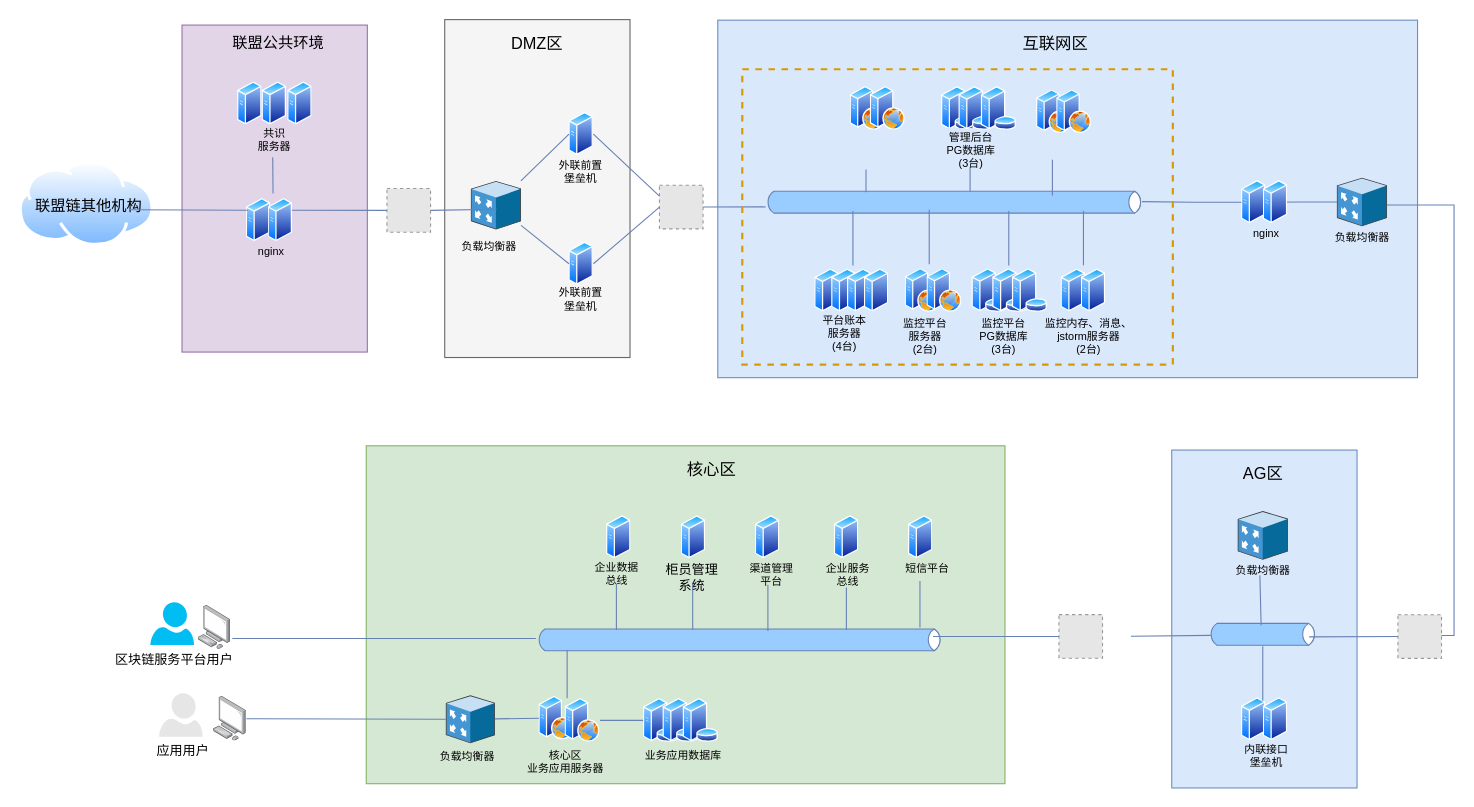
Some shapes in this 1474 by 807 pixel diagram are drawn without their labels. Grey dashed boxes stand in for pictures. Here are the shapes that lost their labels. From the top down, the centre of each, then its label:
point 866,149: 区块链服务平台 管理后台 (2台)
point 1053,146: 区块链代理 (2台)
